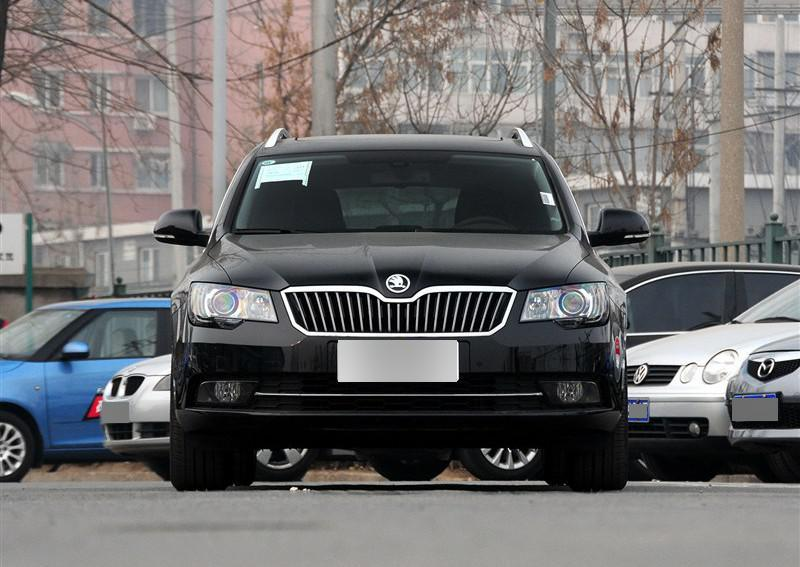Wagon: (152, 126, 653, 492)
